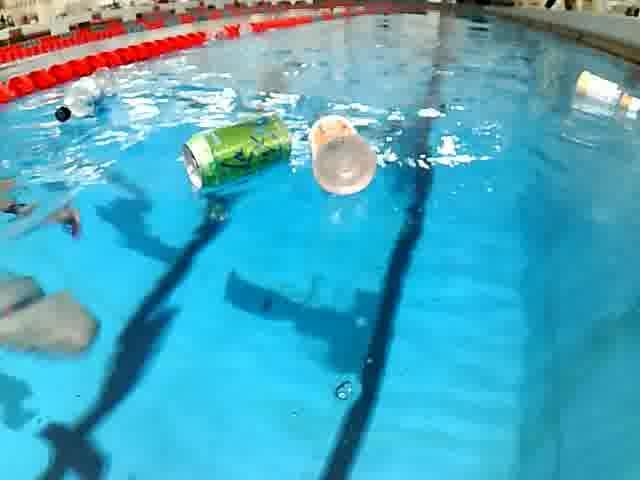Bottle: (300, 107, 382, 201), (49, 68, 125, 136), (566, 66, 640, 114)
Can: (174, 112, 294, 192)
